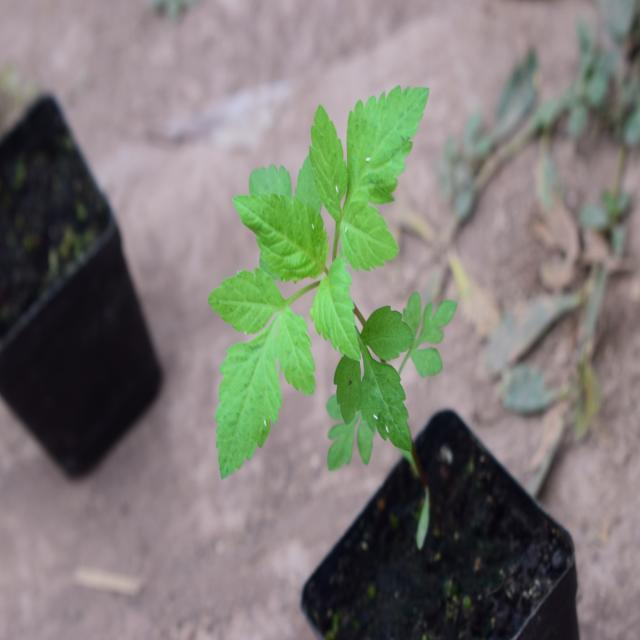Bidens pilosa: (193, 64, 464, 478)
